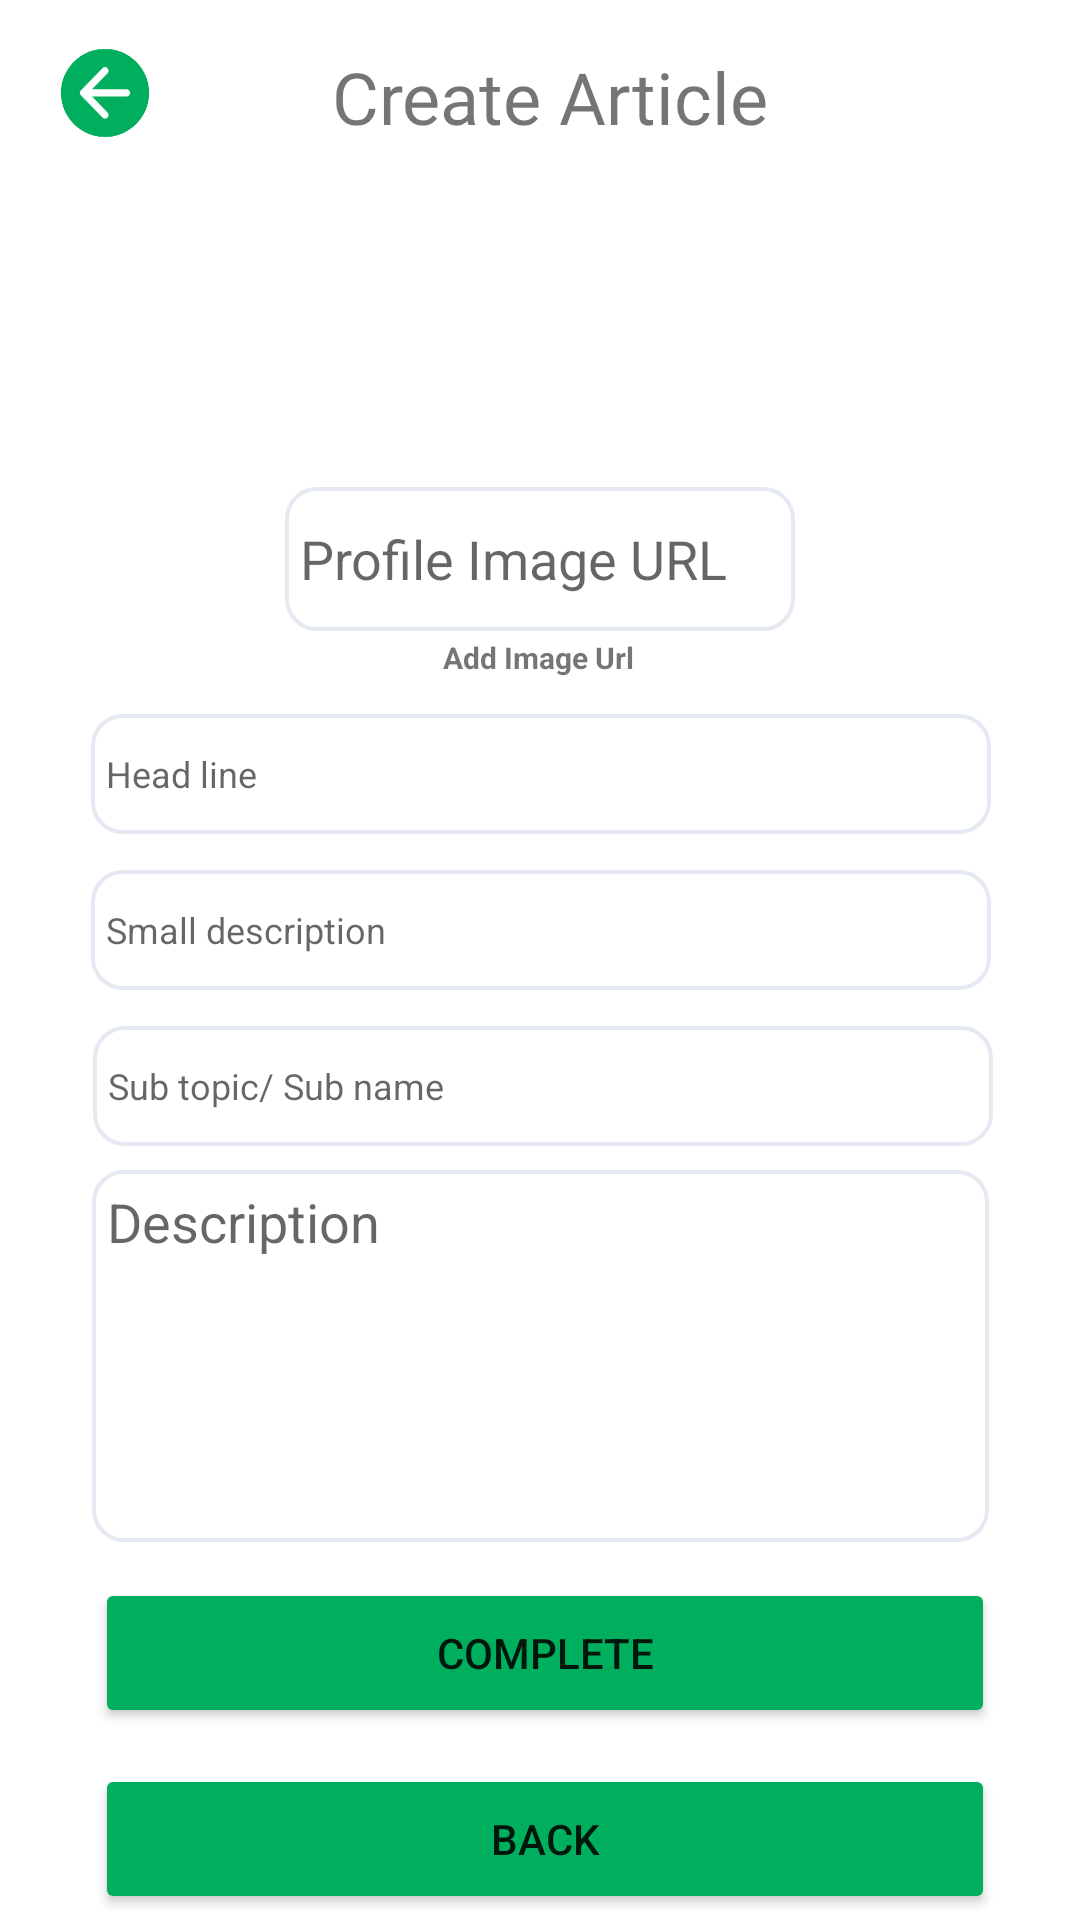

Icons on this 1080x1920 Android screen, each with the point to tap as point (x, y):
backbttn: point (105, 93)
